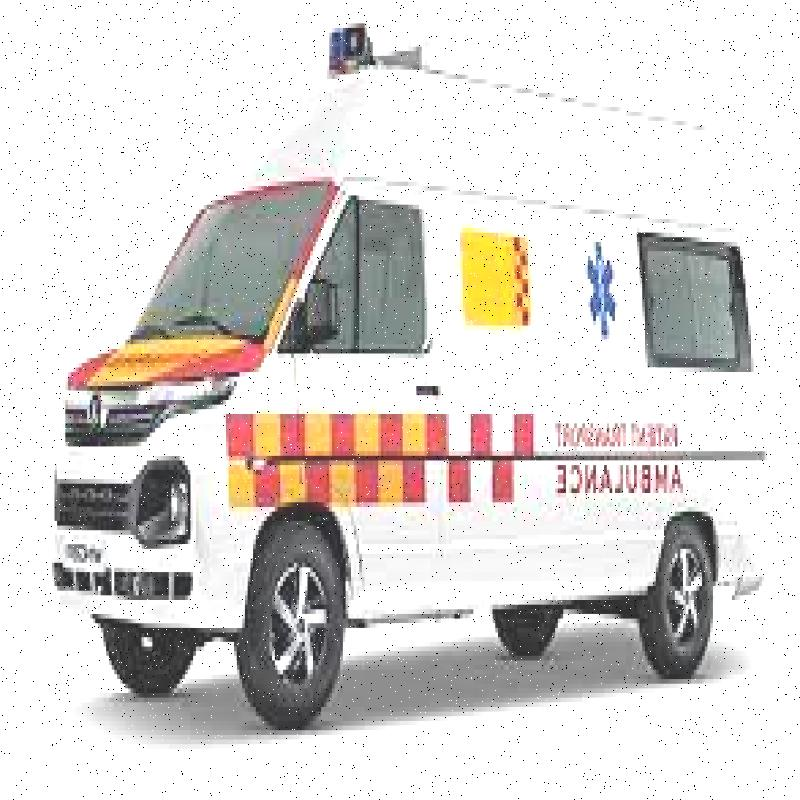ambulance: (44, 10, 791, 732)
